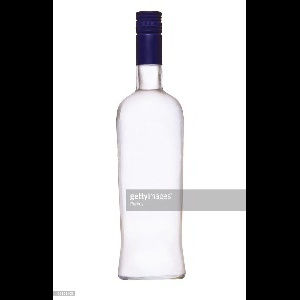emptybottle: (115, 11, 185, 279)
